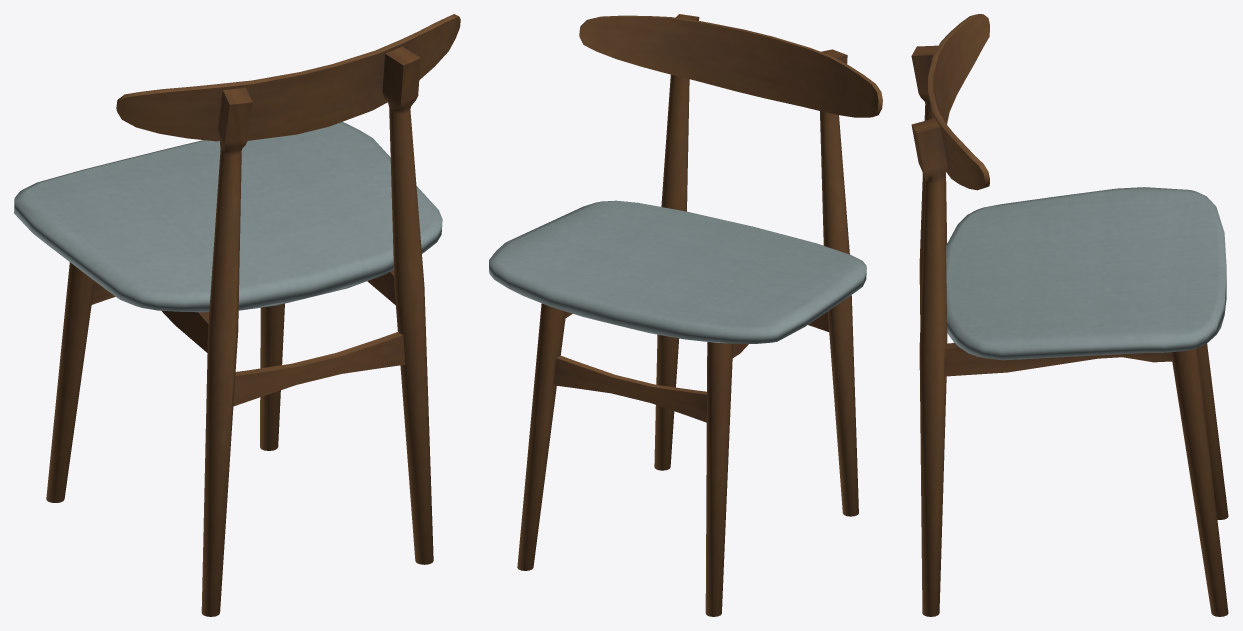
Rendered from LIH0210044.fbx.
The picture shows the model from 3 angles, left to right: view 1: azimuth 30°, elevation 25°; view 2: azimuth 150°, elevation 25°; view 3: azimuth 270°, elevation 25°; orthographic projection. The views are drawn at different scales.
Parts seen in each view (by area): view 1: smLIH0210044; view 2: smLIH0210044; view 3: smLIH0210044.
Part boxes in pixels (x1,y1,x2,y2): smLIH0210044: (14, 14, 460, 616); smLIH0210044: (489, 14, 882, 616); smLIH0210044: (911, 14, 1228, 616).
Bounding box in the file's own units: 77.36 × 112 × 66.62.
Materials: 1 (1 with a texture image).
